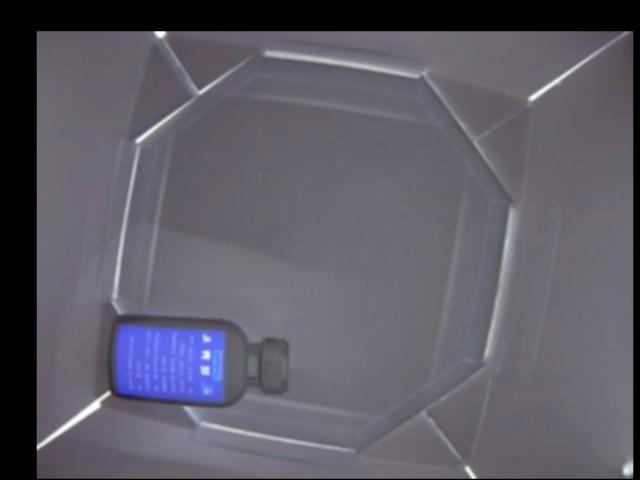Bottle: (107, 315, 291, 406)
